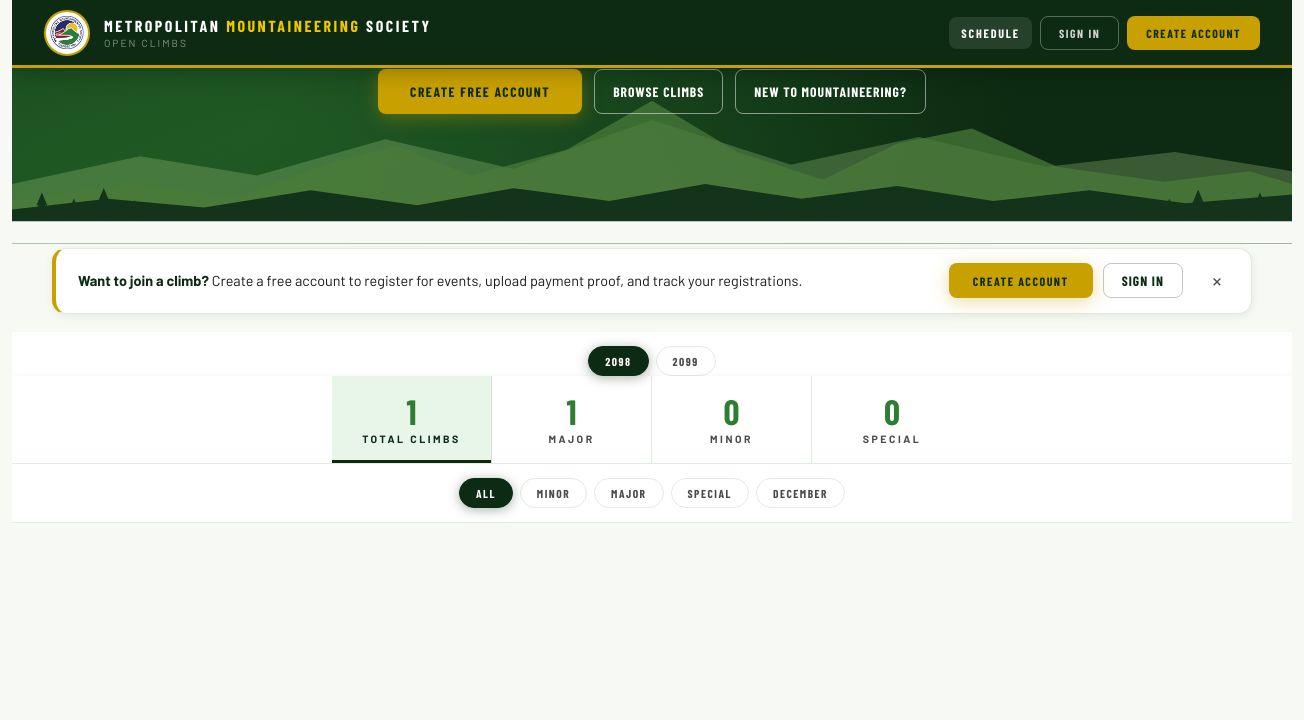
Test case: Schedule page › shows climbs from any month, one season at a time
(page scrolled)
Click the button "2099" at (686, 361), box [656, 346, 716, 376]
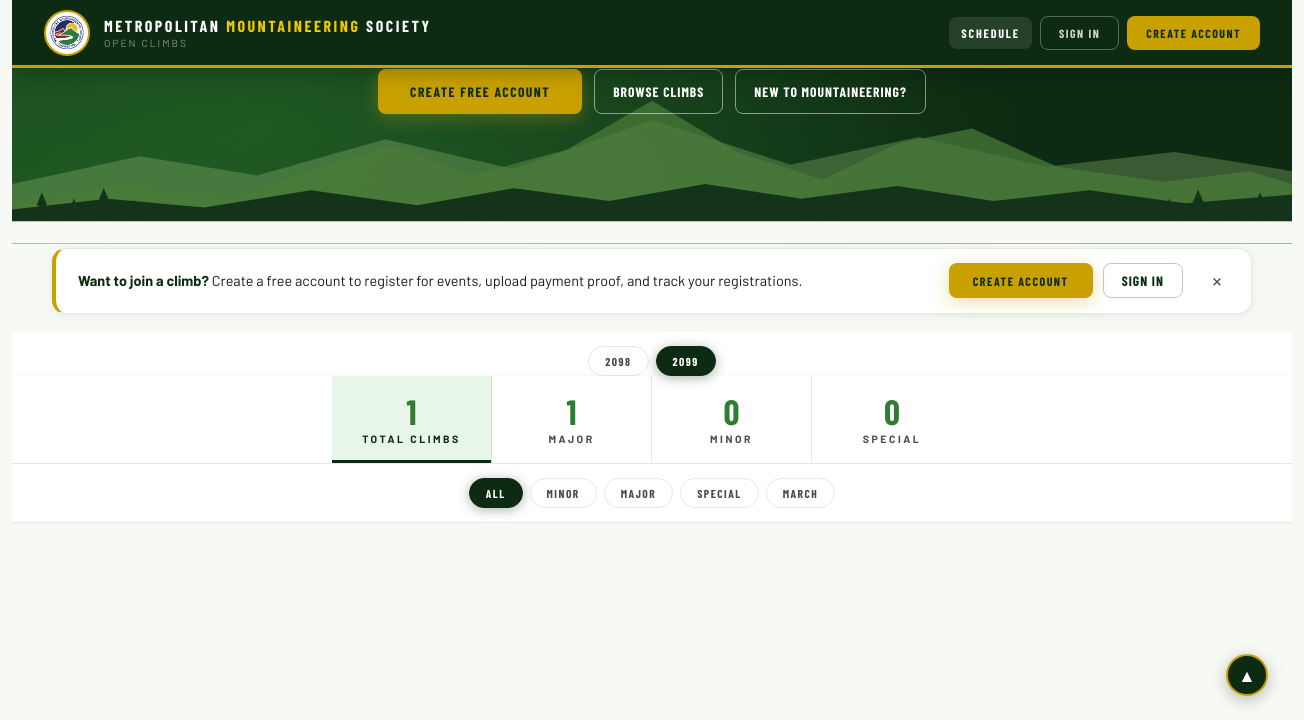
expect the button "March" is shown: met, box [766, 478, 835, 508]
